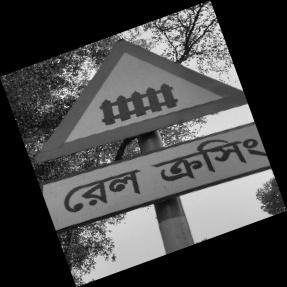Rail-crossing: (36, 39, 272, 228)
